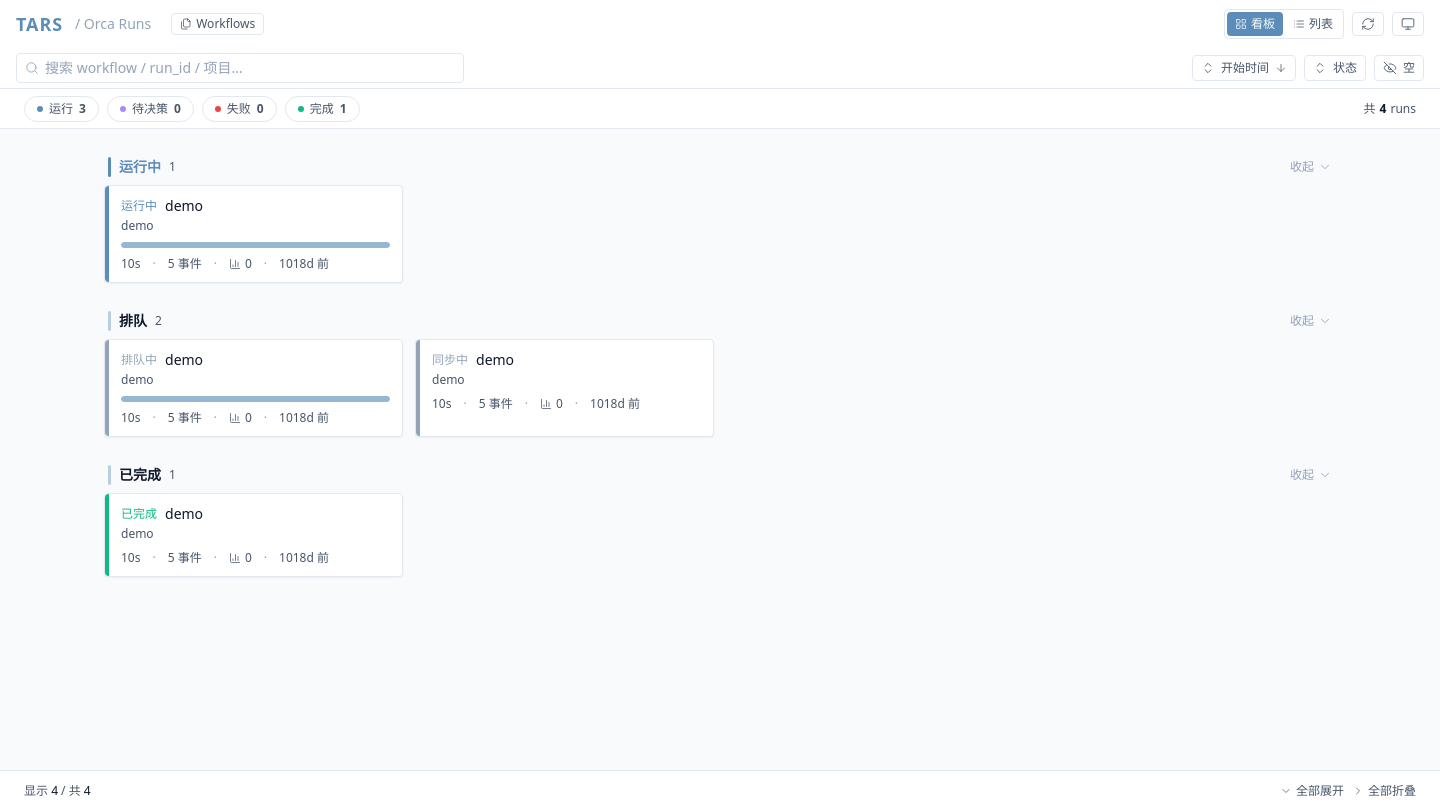
Test: RunListPage 看板视图（SPEC §10） › AC-B3：点 kpi-chip-running → status=running → 显 running + queued + live-pending run
The image size is (1440, 810).
Check: the list with test id "board" is shown, box [104,149,1336,577]
Check: the number of elements with test id "board-card" is 4, box [104,185,403,283]; [104,339,403,437]; [415,339,714,437]; [104,493,403,577]
// 点 kpi-chip-running → 显 running + queued + live-pending（3 张），completed 被过滤。
Click the button with test id "kpi-chip-running" at (61, 108), box [24,96,99,122]
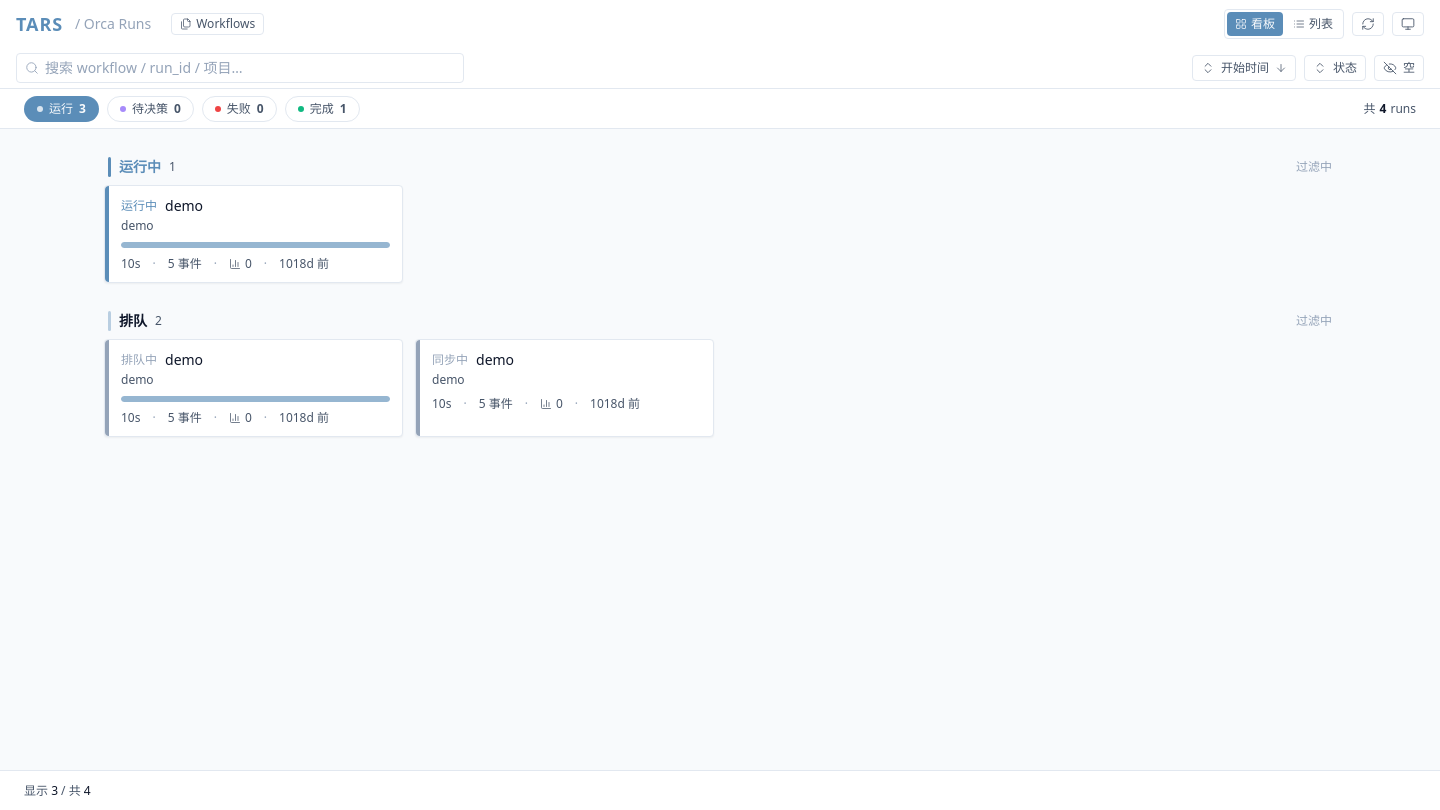
Check: the number of elements with test id "board-card" is 3, box [104,185,403,283]; [104,339,403,437]; [415,339,714,437]
